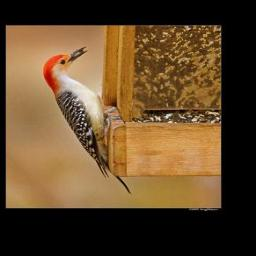Woodpecker: (42, 46, 131, 194)
